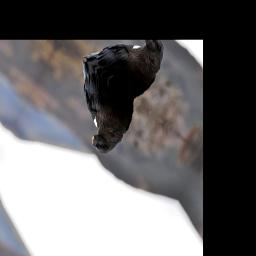Crow: (51, 58, 142, 164)
